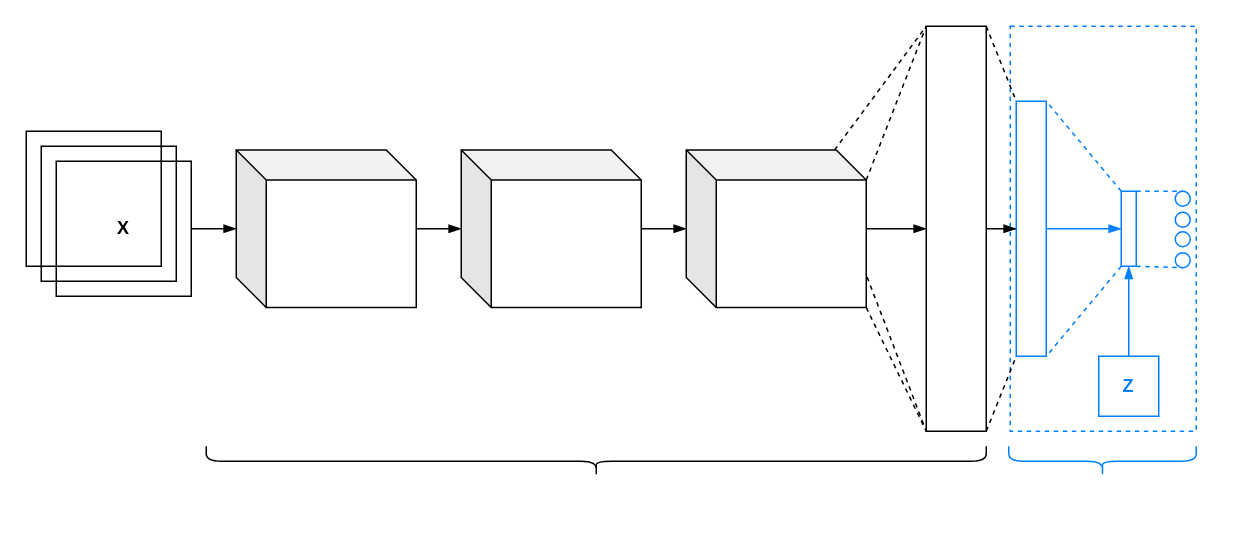
This 1233x533 diagram has some shape labels left out. Here are the shapes that lost their labels. From the top down, the box of each, then its label:
(205, 445, 986, 476): Feature Extractor
(1007, 445, 1196, 476): Classifier
